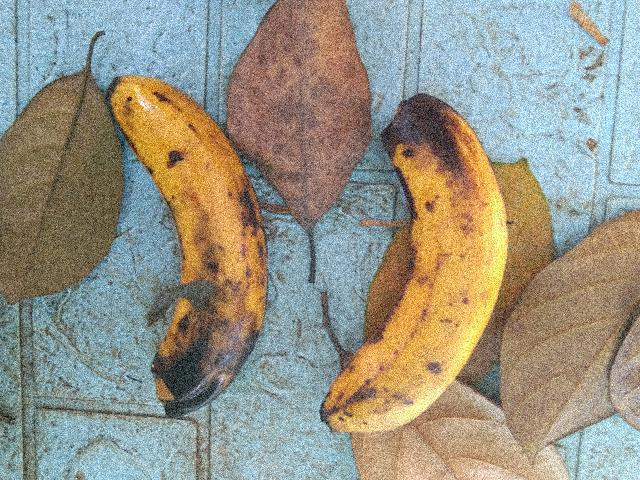overripe: (317, 117, 518, 454)
rotten: (94, 66, 275, 440)
